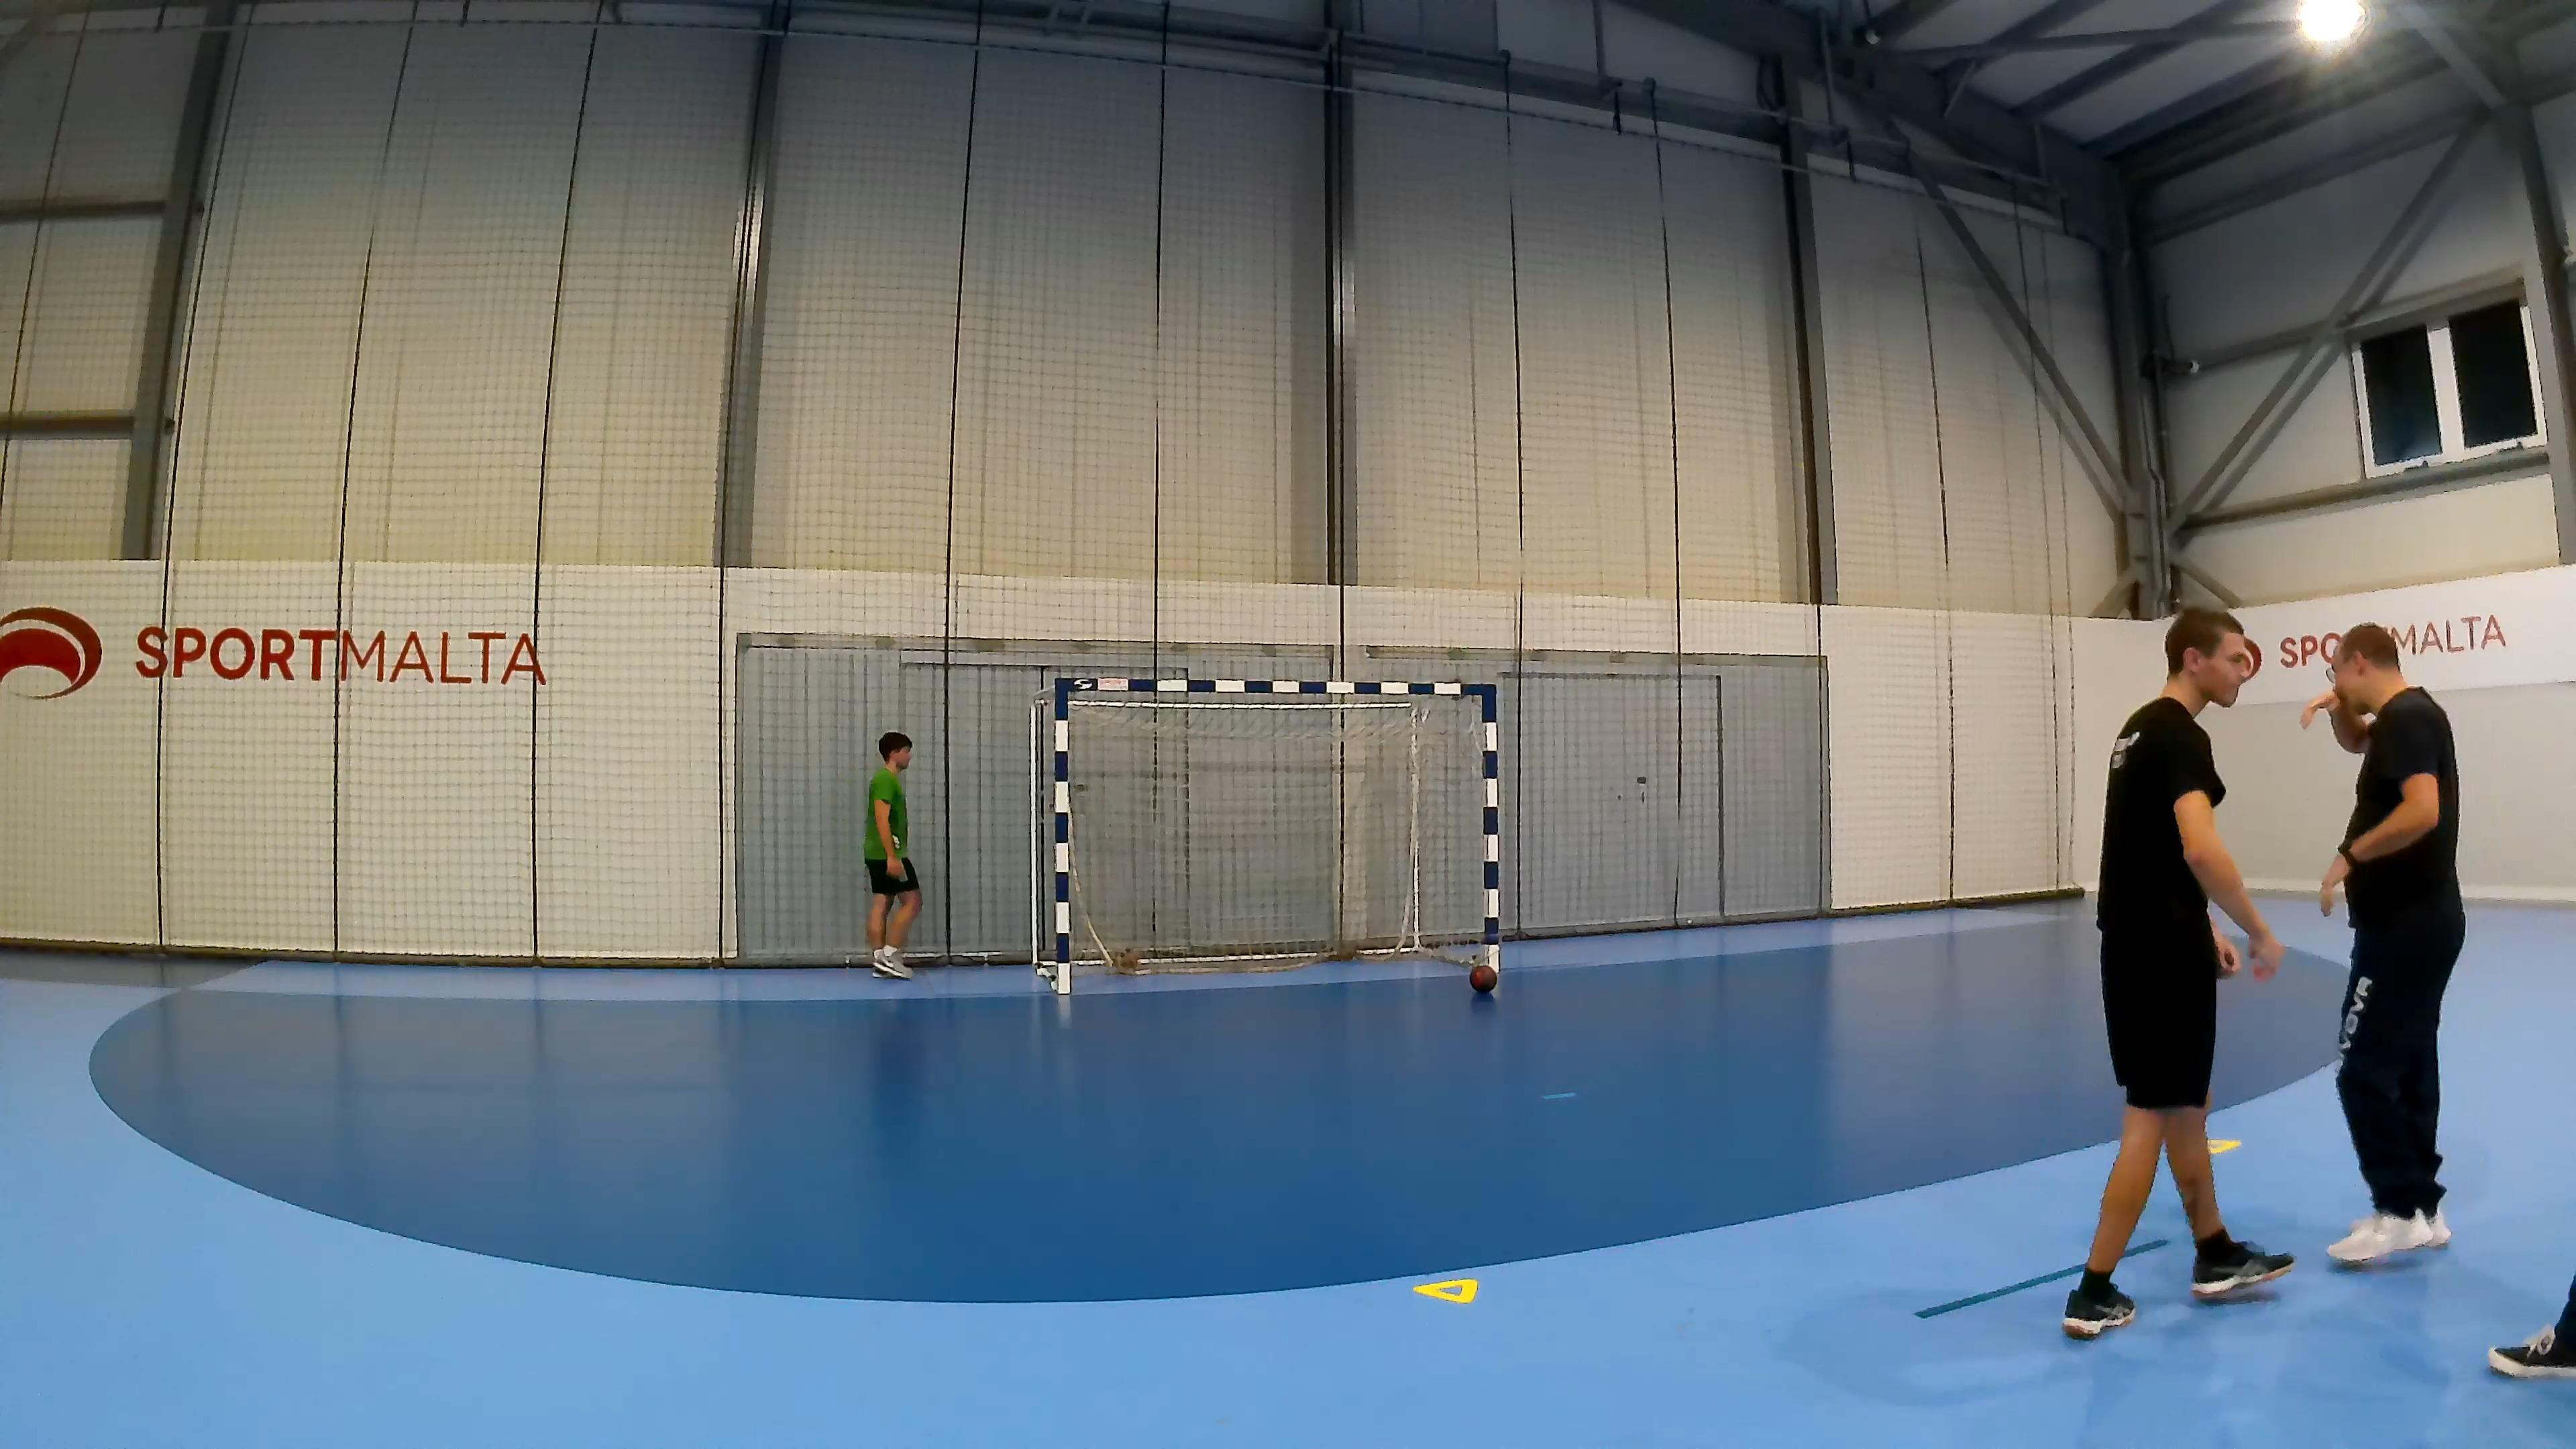handball: (1468, 961, 1497, 993)
